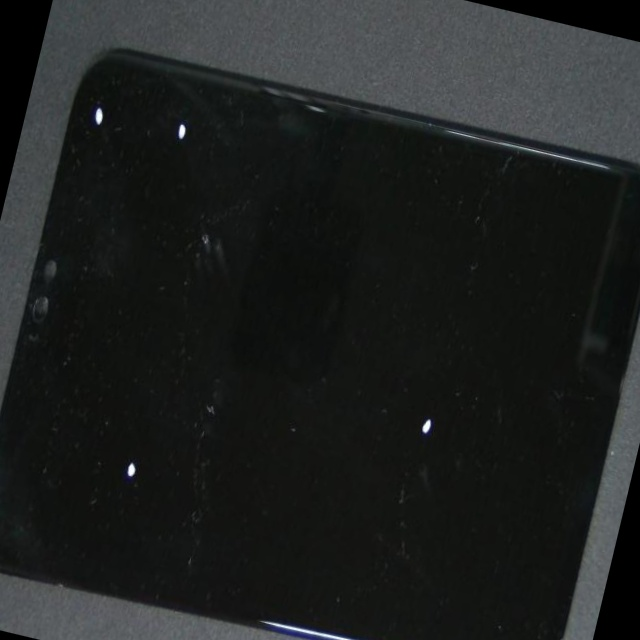stain: (177, 174, 640, 640), (4, 162, 285, 640), (112, 0, 285, 202), (64, 0, 166, 181)
